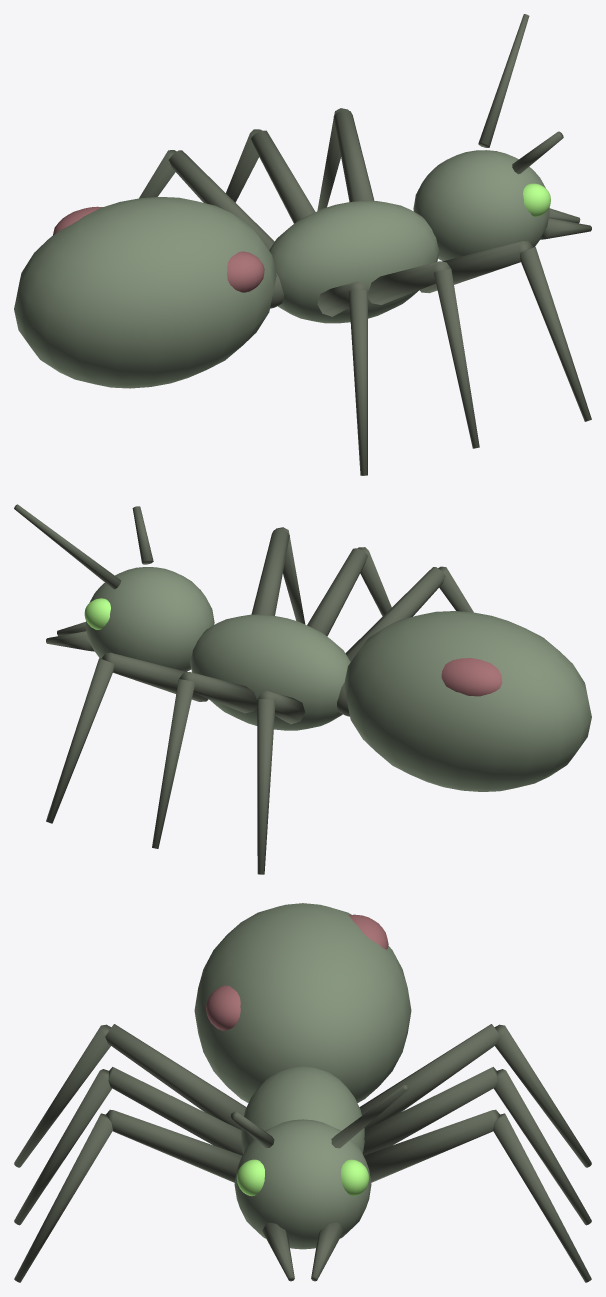
File: monster_zombie_ant.fbx
3 views of the same model, one above another, from view 1: azimuth 30°, elevation 25°; view 2: azimuth 150°, elevation 25°; view 3: azimuth 270°, elevation 25° (orthographic). The views are drawn at different scales.
Visible parts, largest first — view 1: 좀비개미, 좀비개미_머리, 좀비개미_다리_R1, 좀비개미_다리_R2, 좀비개미_다리_R3, 좀비개미_다리_L2, 좀비개미_다리_L1, 좀비개미_다리_L3; view 2: 좀비개미, 좀비개미_머리, 좀비개미_다리_L1, 좀비개미_다리_L2, 좀비개미_다리_L3, 좀비개미_다리_R2, 좀비개미_다리_R1, 좀비개미_다리_R3; view 3: 좀비개미, 좀비개미_머리, 좀비개미_다리_R3, 좀비개미_다리_L2, 좀비개미_다리_R2, 좀비개미_다리_L1, 좀비개미_다리_R1, 좀비개미_다리_L3.
Boxes of the visible parts, x1,y1,x2,y2 form: 좀비개미: [14, 197, 439, 388]; 좀비개미_머리: [413, 14, 591, 260]; 좀비개미_다리_R1: [420, 241, 591, 421]; 좀비개미_다리_R2: [368, 261, 479, 448]; 좀비개미_다리_R3: [317, 281, 367, 475]; 좀비개미_다리_L2: [226, 129, 315, 223]; 좀비개미_다리_L1: [317, 108, 374, 210]; 좀비개미_다리_L3: [139, 150, 274, 250]; 좀비개미: [190, 611, 591, 791]; 좀비개미_머리: [14, 504, 214, 671]; 좀비개미_다리_L1: [46, 652, 208, 823]; 좀비개미_다리_L2: [152, 672, 257, 848]; 좀비개미_다리_L3: [257, 691, 305, 874]; 좀비개미_다리_R2: [307, 547, 391, 636]; 좀비개미_다리_R1: [251, 527, 305, 624]; 좀비개미_다리_R3: [345, 566, 473, 661]; 좀비개미: [194, 903, 411, 1153]; 좀비개미_머리: [230, 1084, 408, 1281]; 좀비개미_다리_R3: [14, 1024, 246, 1167]; 좀비개미_다리_L2: [363, 1067, 591, 1225]; 좀비개미_다리_R2: [14, 1067, 242, 1225]; 좀비개미_다리_L1: [364, 1109, 591, 1282]; 좀비개미_다리_R1: [14, 1109, 241, 1282]; 좀비개미_다리_L3: [359, 1024, 591, 1167].
Size of the model in its own units: 6011 by 2510 by 5061.
